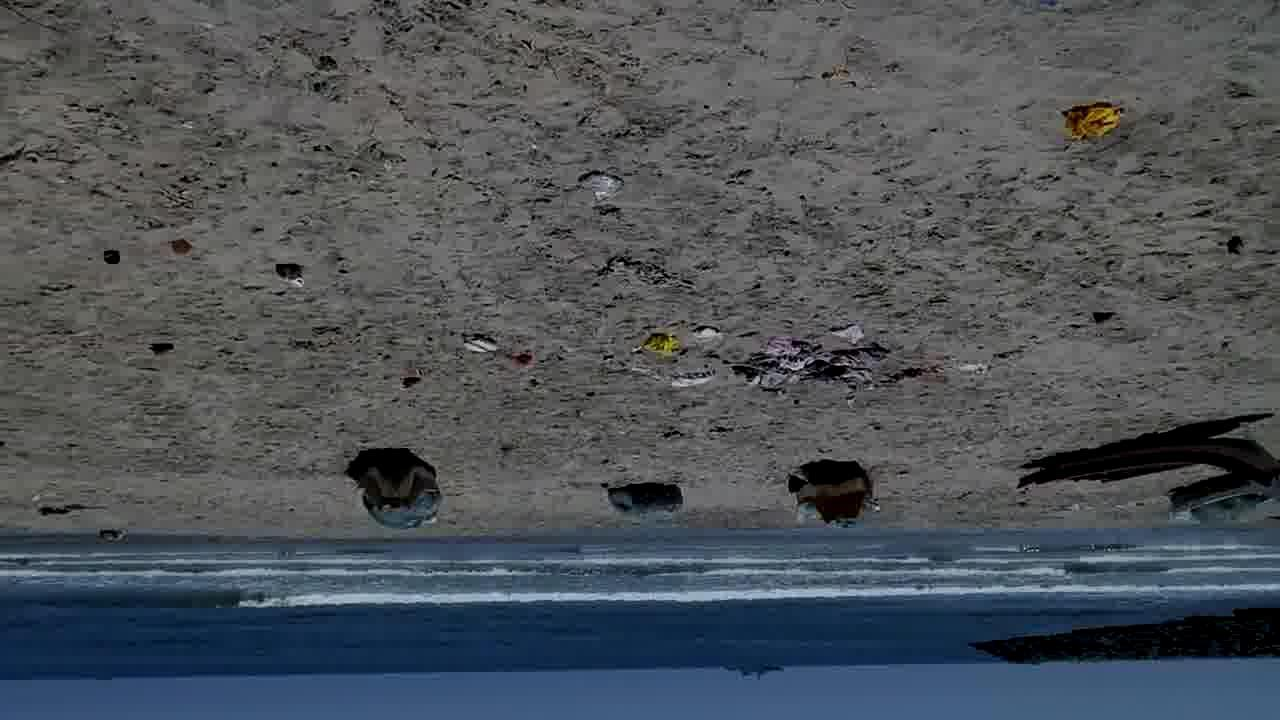large collection of objects: (1017, 428, 1278, 489), (351, 448, 446, 531), (789, 459, 888, 532), (1167, 478, 1279, 529), (606, 482, 686, 522)
obj: (719, 320, 992, 410), (590, 252, 703, 294), (1060, 98, 1124, 148), (570, 163, 632, 213), (154, 181, 210, 219), (634, 330, 680, 358), (270, 260, 308, 293), (455, 332, 502, 358), (662, 371, 722, 387), (1222, 233, 1246, 260), (1088, 308, 1120, 326), (147, 340, 176, 358), (693, 323, 726, 338), (98, 248, 121, 268), (172, 237, 194, 255)
sand/background: (0, 533, 1280, 719)
